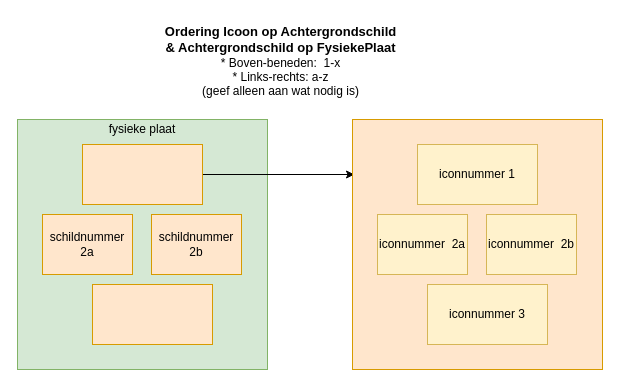
Some shapes in this 620 by 387 pixel diagram are drawn without their labels. Here are the shapes that lost their labels. From the top down, the box of each, then its label:
(82, 144, 202, 204): schildnummer 1
(352, 118, 602, 370): schildnummer X
(92, 284, 212, 344): schildnummer 3
